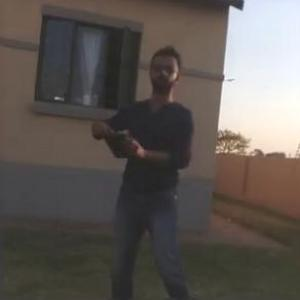follow: (87, 42, 202, 299)
